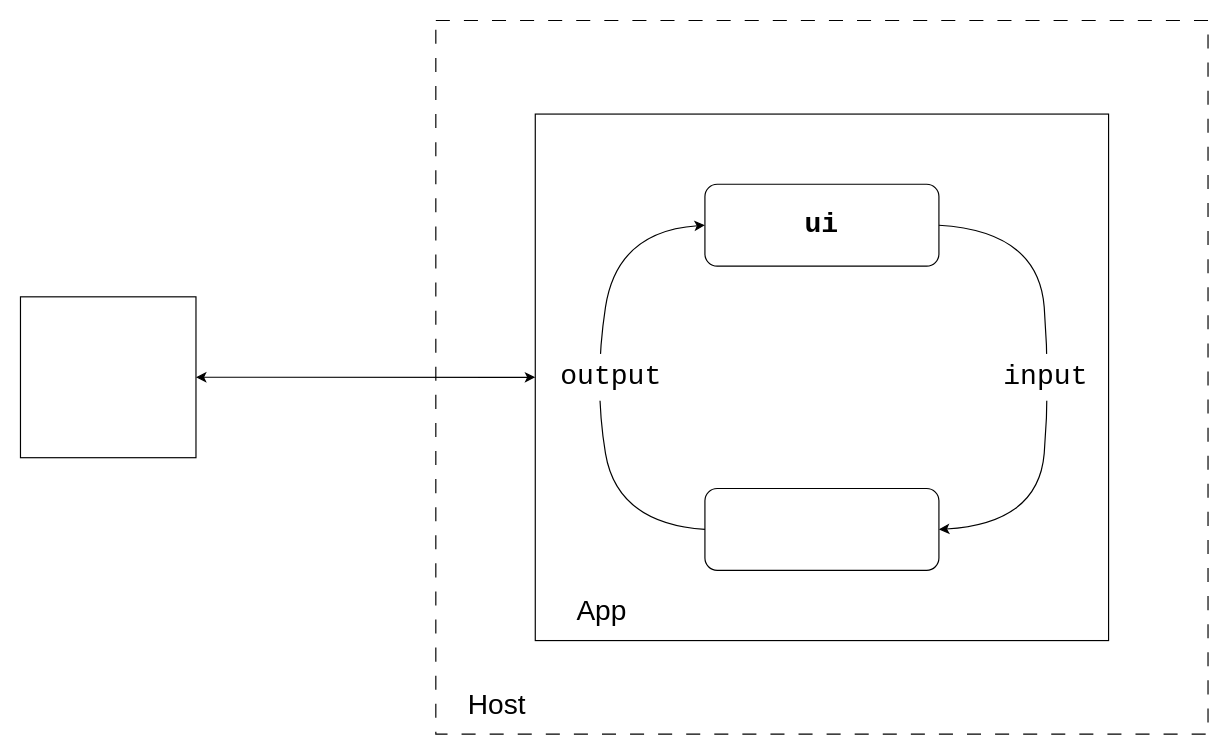
Image size: 1229x755. Some labels were removed from this diagram. Each missing label, with the centre of its shape:
"Client" belongs at point 107,377.
"server" belongs at point 821,528.
